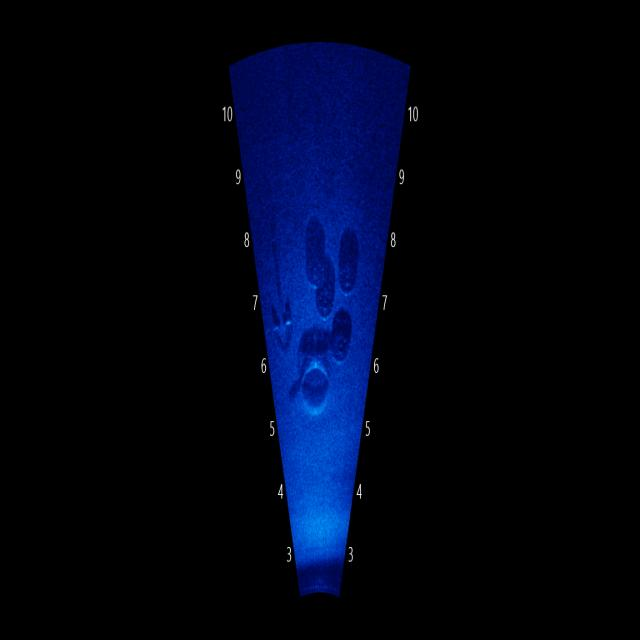circle: (295, 351, 338, 438), (297, 231, 332, 304), (311, 257, 344, 328), (326, 311, 357, 369), (334, 257, 366, 305)
